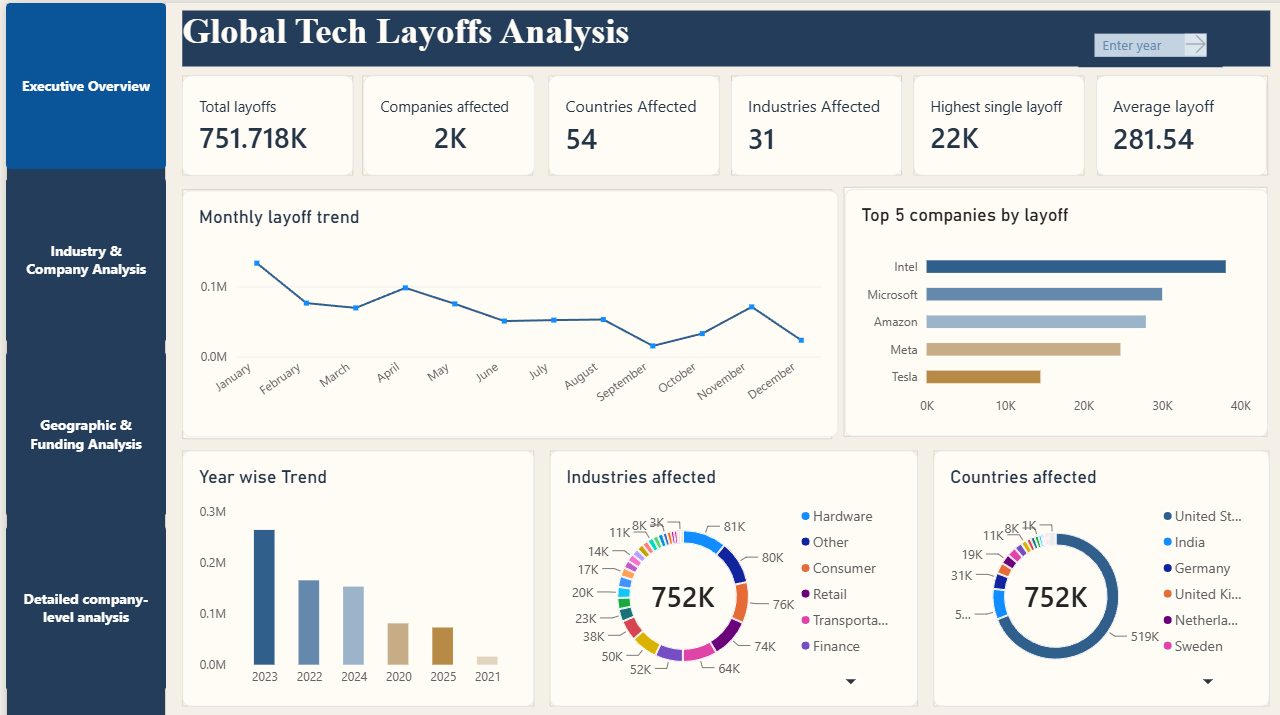

Layout of this report page (visuals, bound fields, positions):
{"tool":"powerbi","page":{"name":"Executive Overview","canvas":[1920,1080],"ordinal":0},"visuals":[{"type":"shape","box":[0,0,160,704],"z":0},{"type":"shape","title":"Global Tech Layoffs Analysis","box":[176,8,1088,56],"z":1000},{"type":"shape","box":[176,72,171,100],"z":2000},{"type":"shape","box":[356,72,171,100],"z":3000},{"type":"shape","box":[542,72,171,100],"z":4000},{"type":"shape","box":[725,72,171,100],"z":5000},{"type":"shape","box":[908,72,171,100],"z":6000},{"type":"shape","box":[1091,72,171,100],"z":7000},{"type":"shape","box":[176,186,650,250],"z":8000},{"type":"shape","box":[838,184,424,250],"z":9000},{"type":"shape","box":[176,448,352,256],"z":10000},{"type":"cardVisual","title":"Total","fields":{"Data":["layoffs_events.Total employees laid_off"]},"box":[176,72,171,100],"z":11000},{"type":"cardVisual","fields":{"Data":["layoffs_country_summary.Companies affected"]},"box":[358,72,171,100],"z":12000},{"type":"cardVisual","fields":{"Data":["layoffs_events.Countries represented"]},"box":[542,72,171,100],"z":13000},{"type":"cardVisual","fields":{"Data":["layoffs_events.Industries represented"]},"box":[725,72,171,100],"z":14000},{"type":"cardVisual","fields":{"Data":["layoffs_events.largest single layoff event"]},"box":[908,72,171,100],"z":15000},{"type":"cardVisual","fields":{"Data":["layoffs_country_summary.Average layoff"]},"box":[1090,72,171,100],"z":16000},{"type":"clusteredColumnChart","title":"Year wise Trend","fields":{"Category":["layoffs_events.year"],"Y":["layoffs_events.Total laid off"]},"box":[176,448,352,256],"z":17000},{"type":"lineChart","title":"Monthly layoff trend","fields":{"Category":["layoffs_events.layoff_date.Variation.Date Hierarchy.Month"],"Y":["layoffs_events.Total laid off"]},"box":[176,187,656,246],"z":18000},{"type":"shape","box":[544,448,368,256],"z":19000},{"type":"shape","box":[928,448,336,256],"z":20000},{"type":"donutChart","title":"Industries affected","fields":{"Category":["layoffs_events.industry"],"Y":["layoffs_events.Total laid off"]},"box":[544,448,368,256],"z":21000},{"type":"donutChart","title":"Countries affected","fields":{"Category":["layoffs_events.country"],"Y":["layoffs_events.Total laid off"]},"box":[928,448,336,256],"z":22000},{"type":"textSlicer","fields":{"Values":["layoffs_events.year"]},"box":[1072,16,144,48],"z":23000},{"type":"clusteredBarChart","title":"Top 5 companies by layoff","fields":{"Category":["layoffs_events.company"],"Y":["Sum(layoffs_events.laid_off_count)"]},"box":[839,186,423,247],"z":24000},{"type":"pageNavigator","box":[0,0,160,704],"z":25000}]}

Visuals, with their boxes in screenshot pixels (x1, y1, x2, y2), scaled from the page's 1920x1080 canvas onto the 1280x715 screenshot:
shape: (left=0, top=0, right=107, bottom=466)
"Global Tech Layoffs Analysis" shape: (left=117, top=5, right=843, bottom=42)
shape: (left=117, top=48, right=231, bottom=114)
shape: (left=237, top=48, right=351, bottom=114)
shape: (left=361, top=48, right=475, bottom=114)
shape: (left=483, top=48, right=597, bottom=114)
shape: (left=605, top=48, right=719, bottom=114)
shape: (left=727, top=48, right=841, bottom=114)
shape: (left=117, top=123, right=551, bottom=289)
shape: (left=559, top=122, right=841, bottom=287)
shape: (left=117, top=297, right=352, bottom=466)
"Total" cardVisual: (left=117, top=48, right=231, bottom=114)
cardVisual - layoffs_country_summary.Companies affected: (left=239, top=48, right=353, bottom=114)
cardVisual - layoffs_events.Countries represented: (left=361, top=48, right=475, bottom=114)
cardVisual - layoffs_events.Industries represented: (left=483, top=48, right=597, bottom=114)
cardVisual - layoffs_events.largest single layoff event: (left=605, top=48, right=719, bottom=114)
cardVisual - layoffs_country_summary.Average layoff: (left=727, top=48, right=841, bottom=114)
"Year wise Trend" clusteredColumnChart: (left=117, top=297, right=352, bottom=466)
"Monthly layoff trend" lineChart: (left=117, top=124, right=555, bottom=287)
shape: (left=363, top=297, right=608, bottom=466)
shape: (left=619, top=297, right=843, bottom=466)
"Industries affected" donutChart: (left=363, top=297, right=608, bottom=466)
"Countries affected" donutChart: (left=619, top=297, right=843, bottom=466)
textSlicer - layoffs_events.year: (left=715, top=11, right=811, bottom=42)
"Top 5 companies by layoff" clusteredBarChart: (left=559, top=123, right=841, bottom=287)
pageNavigator: (left=0, top=0, right=107, bottom=466)
